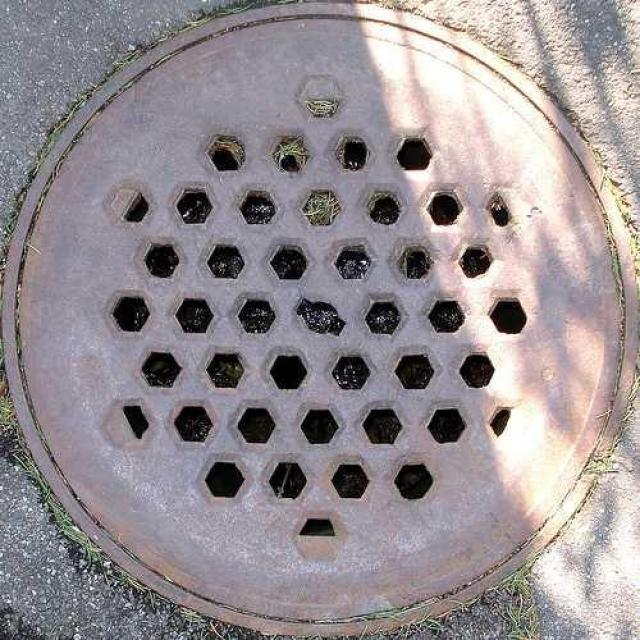manhole: (4, 2, 633, 633)
